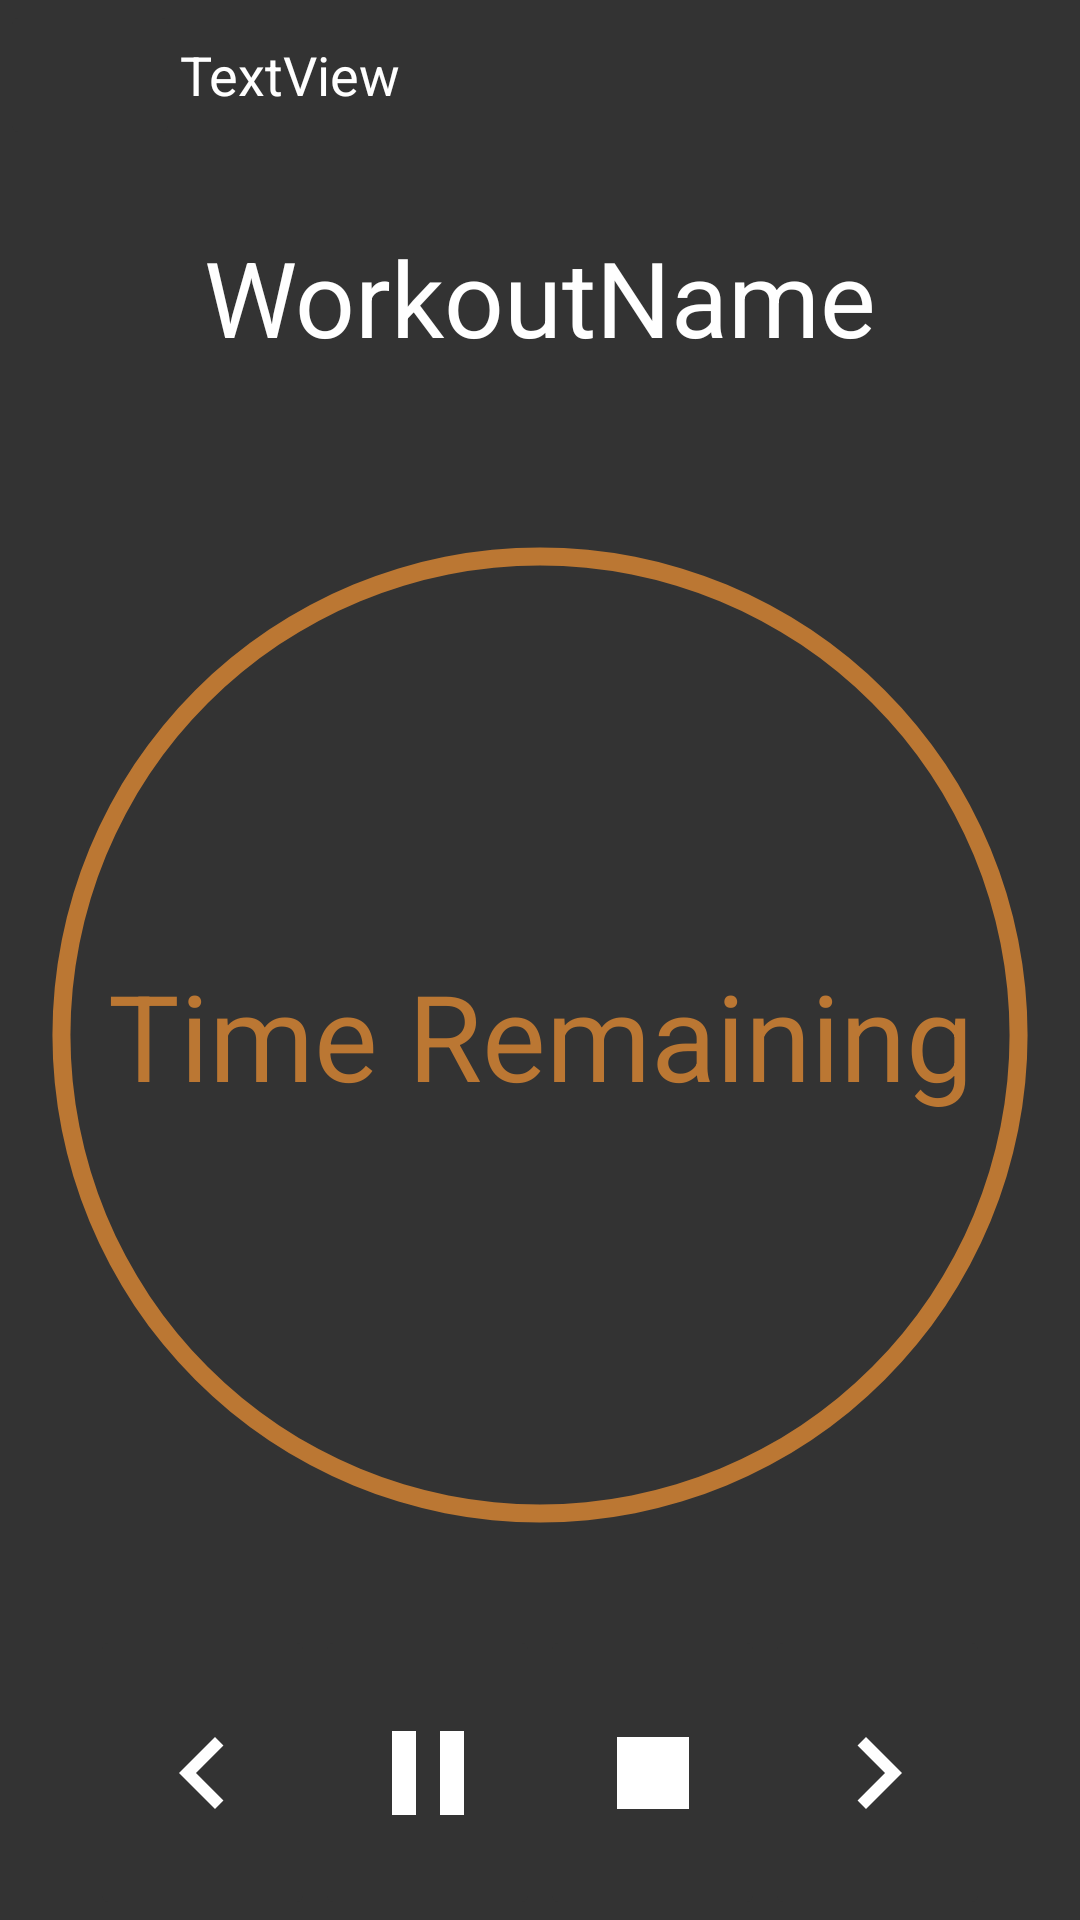

Screen size 1080×1920. Icon name, then its box in pixels as (x1, y1, x2, y2):
keyboard arrow left: (179, 1737, 224, 1809)
navigate next: (857, 1737, 902, 1809)
pause: (392, 1731, 464, 1815)
